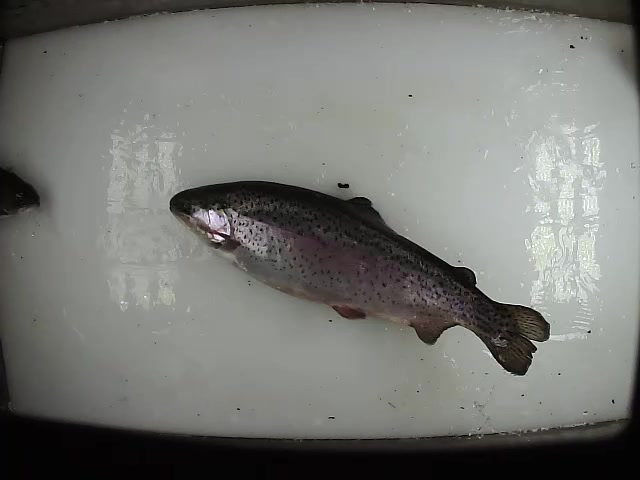fish: (162, 178, 552, 383)
